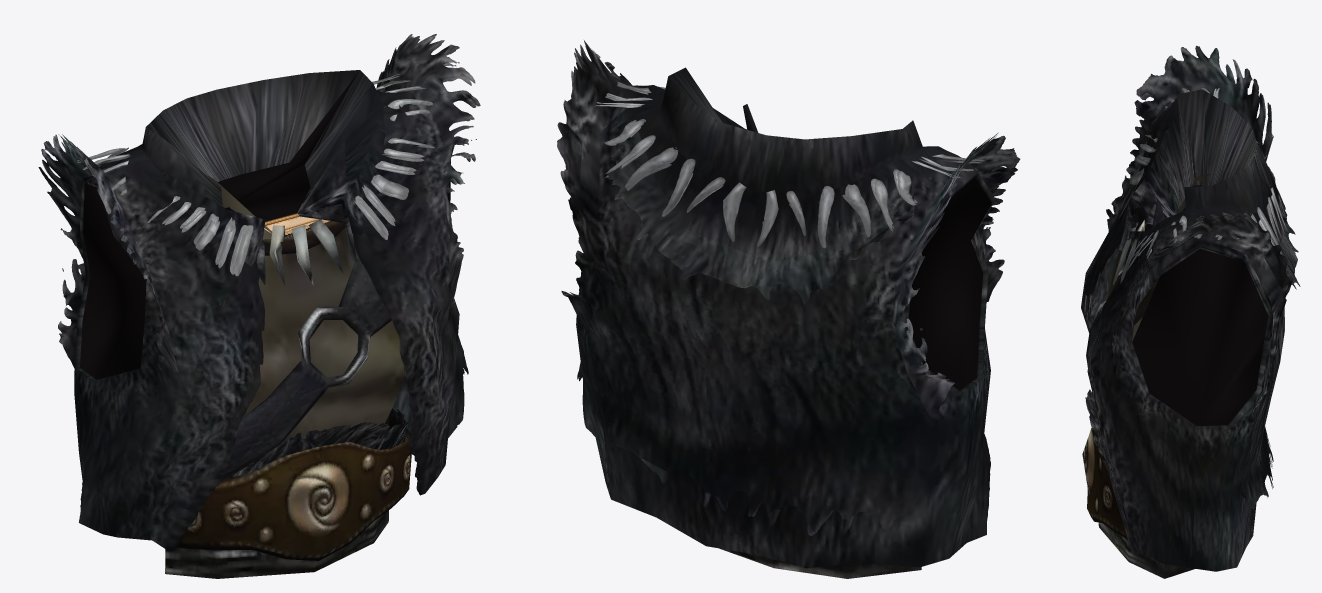
File: STATIC_GS_FER_BLACKTROLL_ARMOR_01.glb
3 renders of one model, left to right at view 1: azimuth 30°, elevation 25°; view 2: azimuth 150°, elevation 25°; view 3: azimuth 270°, elevation 25°, orthographic. The views are drawn at different scales.
Visible parts, largest first — view 1: Mesh; view 2: Mesh; view 3: Mesh.
Boxes of the visible parts, box(x1,y1,x2,y2) form: Mesh: box(38, 34, 480, 578); Mesh: box(557, 40, 1020, 578); Mesh: box(1081, 45, 1300, 578).
Size of the model in its own units: 0.6017 by 0.5936 by 0.2882.
Materials: 2 (2 with a texture image).
